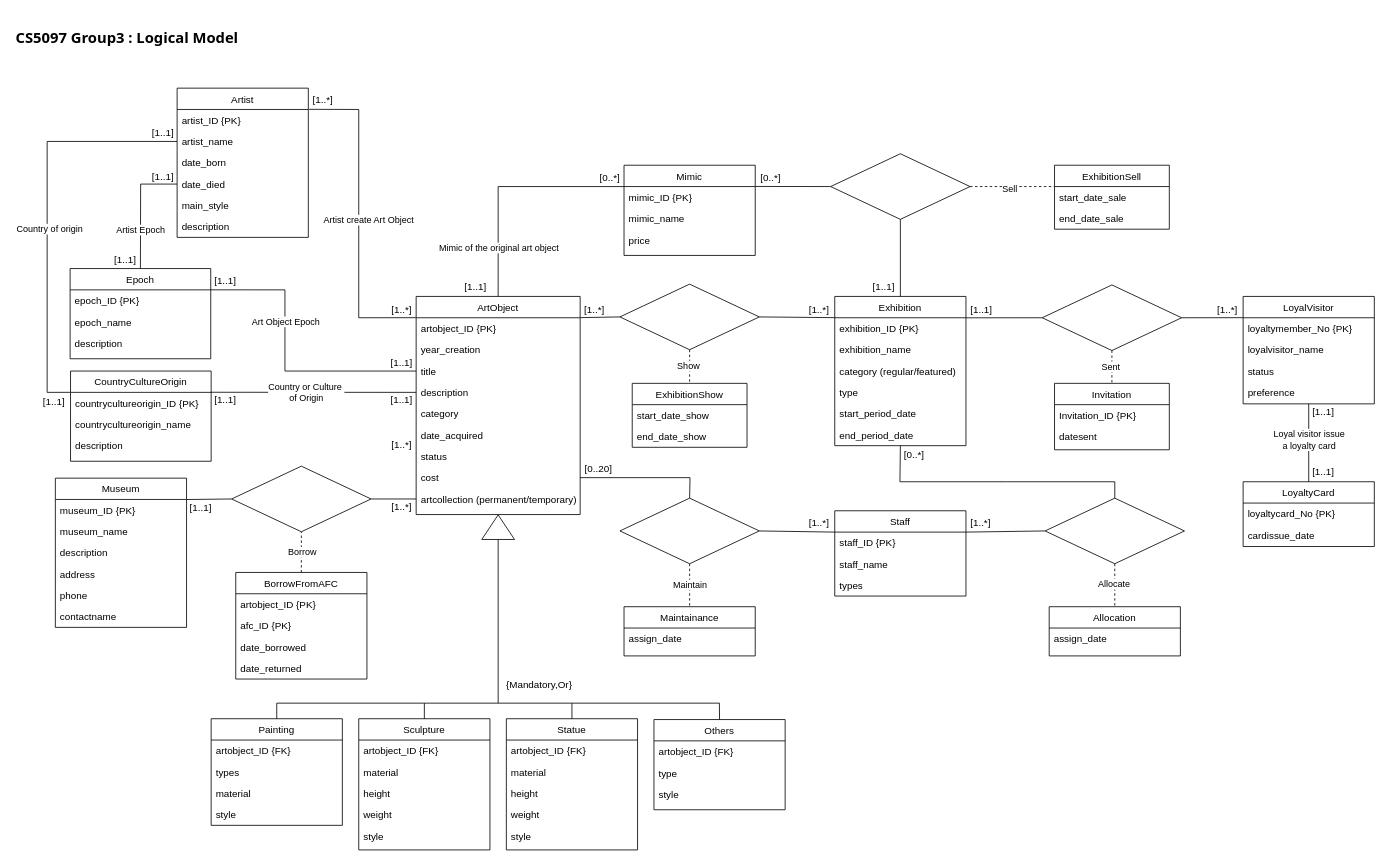
Image size: 1388x864. Some labels were removed from this diagram. The centre of each missing label's shape, as x and y in pixels:
"Borrow Art Object from Arts Friends Circle" goes at pixel 301 498.
"Curator maintain Art Object" goes at pixel 689 530.
"Exhibition show Art Object" goes at pixel 689 316.
"Featured Exhibitions sell Mimic" goes at pixel 900 186.
"Invitation Loyal Visitor to Featured Exhibition" goes at pixel 1111 317.
"Supervisor allocate Exhibition" goes at pixel 1114 530.
